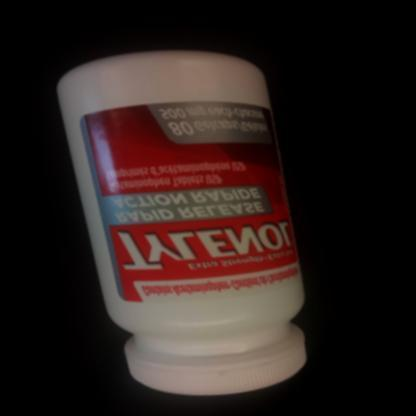jar: (53, 30, 319, 415)
